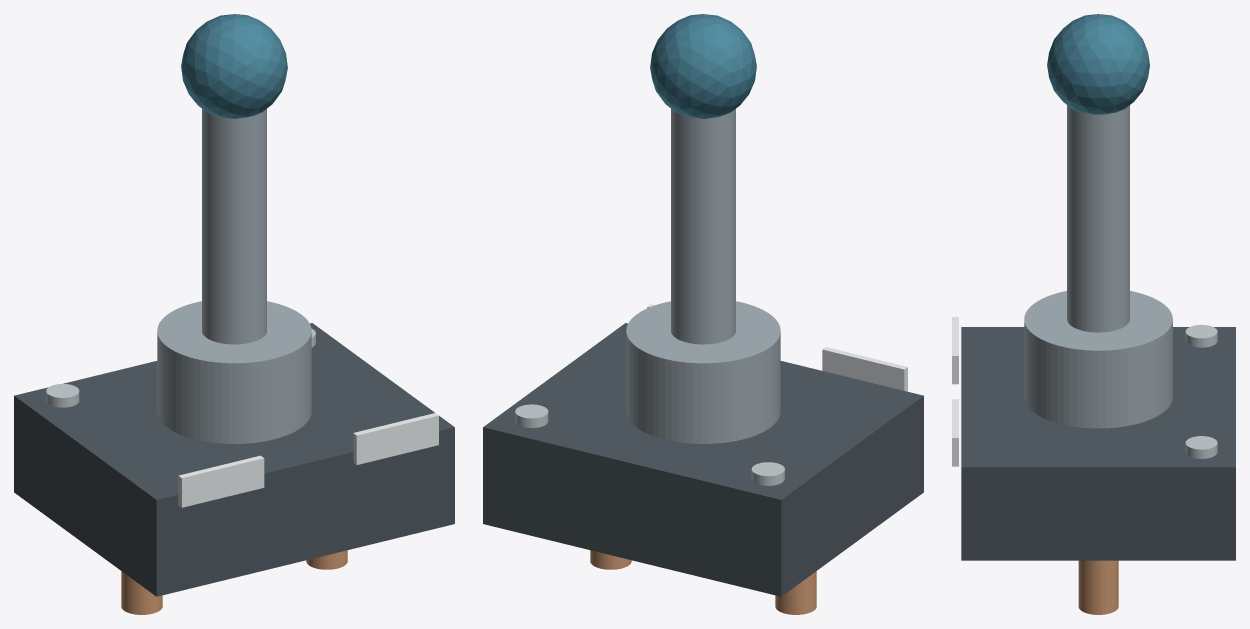
File: toggle_switch_lod0.glb
The picture shows the model from 3 angles, left to right: view 1: azimuth 30°, elevation 25°; view 2: azimuth 150°, elevation 25°; view 3: azimuth 270°, elevation 25°; orthographic projection. The views are drawn at different scales.
Visible parts, largest first — view 1: SW_BASE_MAT_POLYMER_BLACK, SW_COLLAR_MAT_METAL_BRUSHED, SW_LEVER_MAT_METAL_BRUSHED, SW_TIP_MAT_POLYMER_BLUE, SW_ON_LABEL_MAT_LABEL, SW_OFF_LABEL_MAT_LABEL, SW_TERM_-0.18_MAT_METAL_COPPER, SW_SCREW_0_MAT_STAINLESS; view 2: SW_BASE_MAT_POLYMER_BLACK, SW_COLLAR_MAT_METAL_BRUSHED, SW_LEVER_MAT_METAL_BRUSHED, SW_TIP_MAT_POLYMER_BLUE, SW_ON_LABEL_MAT_LABEL, SW_TERM_-0.18_MAT_METAL_COPPER, SW_SCREW_0_MAT_STAINLESS, SW_SCREW_1_MAT_STAINLESS; view 3: SW_BASE_MAT_POLYMER_BLACK, SW_COLLAR_MAT_METAL_BRUSHED, SW_LEVER_MAT_METAL_BRUSHED, SW_TIP_MAT_POLYMER_BLUE, SW_TERM_0.18_MAT_METAL_COPPER, SW_SCREW_0_MAT_STAINLESS, SW_SCREW_1_MAT_STAINLESS, SW_ON_LABEL_MAT_LABEL, SW_OFF_LABEL_MAT_LABEL.
Boxes of the visible parts, bbox=[...] form: SW_BASE_MAT_POLYMER_BLACK: bbox=[14, 323, 454, 596]; SW_COLLAR_MAT_METAL_BRUSHED: bbox=[157, 301, 311, 443]; SW_LEVER_MAT_METAL_BRUSHED: bbox=[202, 109, 266, 344]; SW_TIP_MAT_POLYMER_BLUE: bbox=[181, 14, 287, 118]; SW_ON_LABEL_MAT_LABEL: bbox=[178, 455, 264, 507]; SW_OFF_LABEL_MAT_LABEL: bbox=[353, 413, 438, 464]; SW_TERM_-0.18_MAT_METAL_COPPER: bbox=[121, 571, 162, 614]; SW_SCREW_0_MAT_STAINLESS: bbox=[46, 384, 79, 407]; SW_BASE_MAT_POLYMER_BLACK: bbox=[483, 323, 923, 596]; SW_COLLAR_MAT_METAL_BRUSHED: bbox=[626, 301, 780, 443]; SW_LEVER_MAT_METAL_BRUSHED: bbox=[671, 109, 735, 344]; SW_TIP_MAT_POLYMER_BLUE: bbox=[650, 14, 756, 118]; SW_ON_LABEL_MAT_LABEL: bbox=[822, 347, 907, 391]; SW_TERM_-0.18_MAT_METAL_COPPER: bbox=[775, 571, 816, 614]; SW_SCREW_0_MAT_STAINLESS: bbox=[751, 462, 784, 485]; SW_SCREW_1_MAT_STAINLESS: bbox=[515, 404, 548, 427]; SW_BASE_MAT_POLYMER_BLACK: bbox=[961, 327, 1235, 560]; SW_COLLAR_MAT_METAL_BRUSHED: bbox=[1024, 291, 1172, 428]; SW_LEVER_MAT_METAL_BRUSHED: bbox=[1067, 105, 1129, 332]; SW_TIP_MAT_POLYMER_BLUE: bbox=[1047, 14, 1149, 114]; SW_TERM_0.18_MAT_METAL_COPPER: bbox=[1078, 560, 1118, 614]; SW_SCREW_0_MAT_STAINLESS: bbox=[1185, 324, 1217, 347]; SW_SCREW_1_MAT_STAINLESS: bbox=[1185, 436, 1217, 458]; SW_ON_LABEL_MAT_LABEL: bbox=[952, 317, 958, 384]; SW_OFF_LABEL_MAT_LABEL: bbox=[952, 399, 958, 466].
Size of the model in its own units: 0.58 by 1.05 by 0.496.
